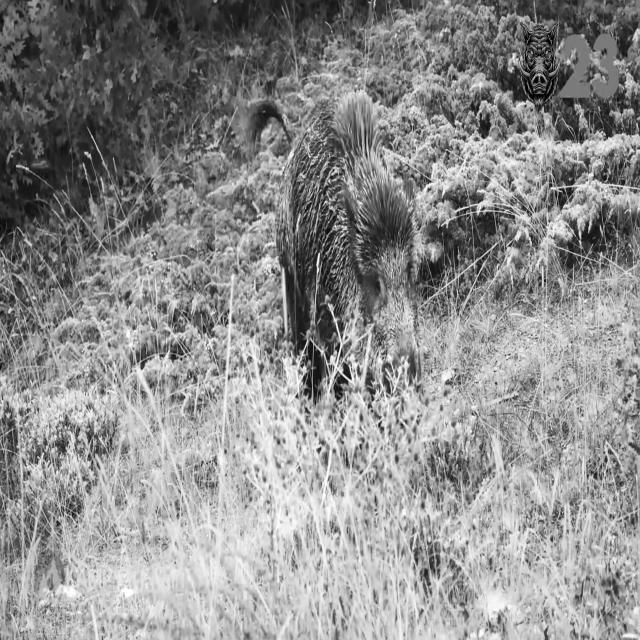boar: (277, 94, 420, 379)
